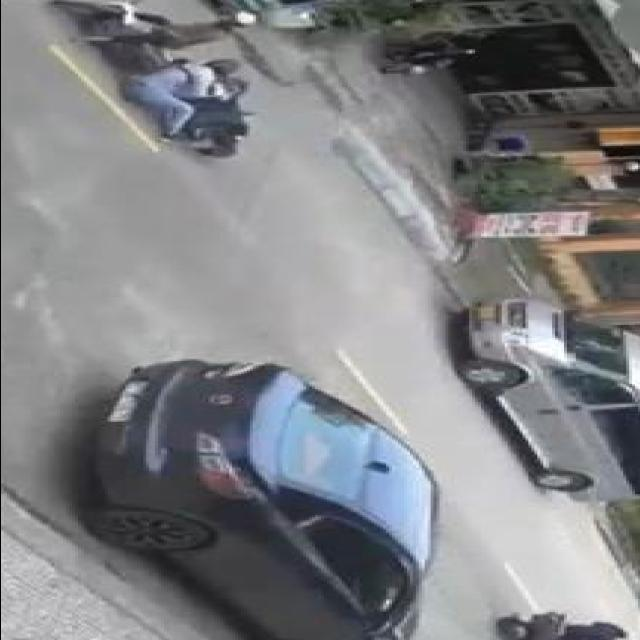accident: (33, 0, 311, 161)
